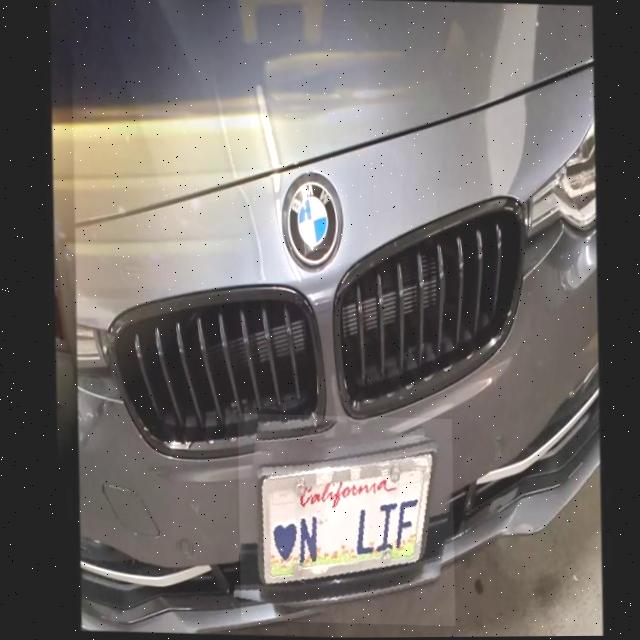LicensePlate: (225, 412, 455, 627)
